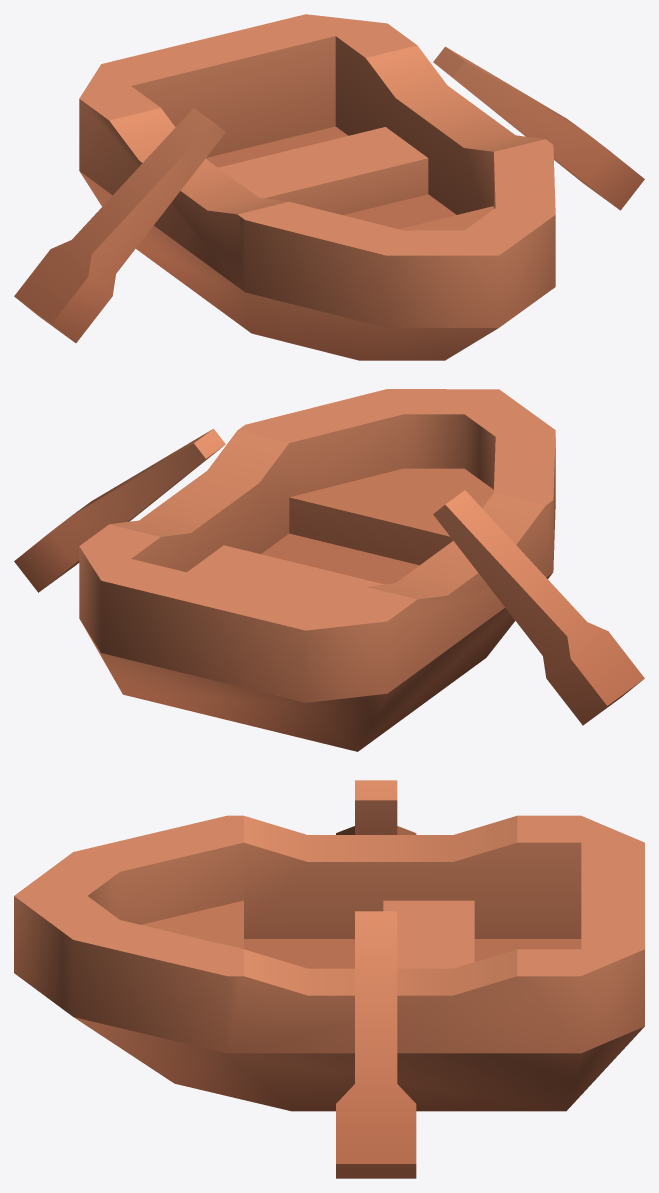
Rendered from boat-row-small.glb.
The picture shows the model from 3 angles, top to bottom: view 1: azimuth 30°, elevation 25°; view 2: azimuth 150°, elevation 25°; view 3: azimuth 270°, elevation 25°; orthographic projection. The views are drawn at different scales.
Visible parts, largest first — view 1: boat-row-small, paddles; view 2: boat-row-small, paddles; view 3: boat-row-small, paddles.
Part boxes in pixels (x1,y1,x2,y2): boat-row-small: [79, 14, 555, 360]; paddles: [14, 46, 644, 342]; boat-row-small: [79, 389, 555, 751]; paddles: [14, 428, 644, 725]; boat-row-small: [14, 815, 644, 1111]; paddles: [336, 780, 416, 1178].
Bounding box in the file's own units: 2.75 × 0.8477 × 2.37.
Materials: 1 (1 with a texture image).
